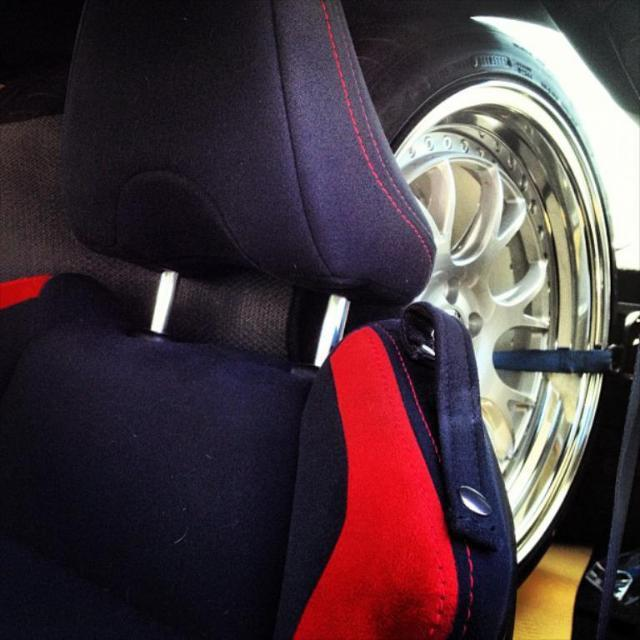Seatbelt: (592, 353, 638, 635)
